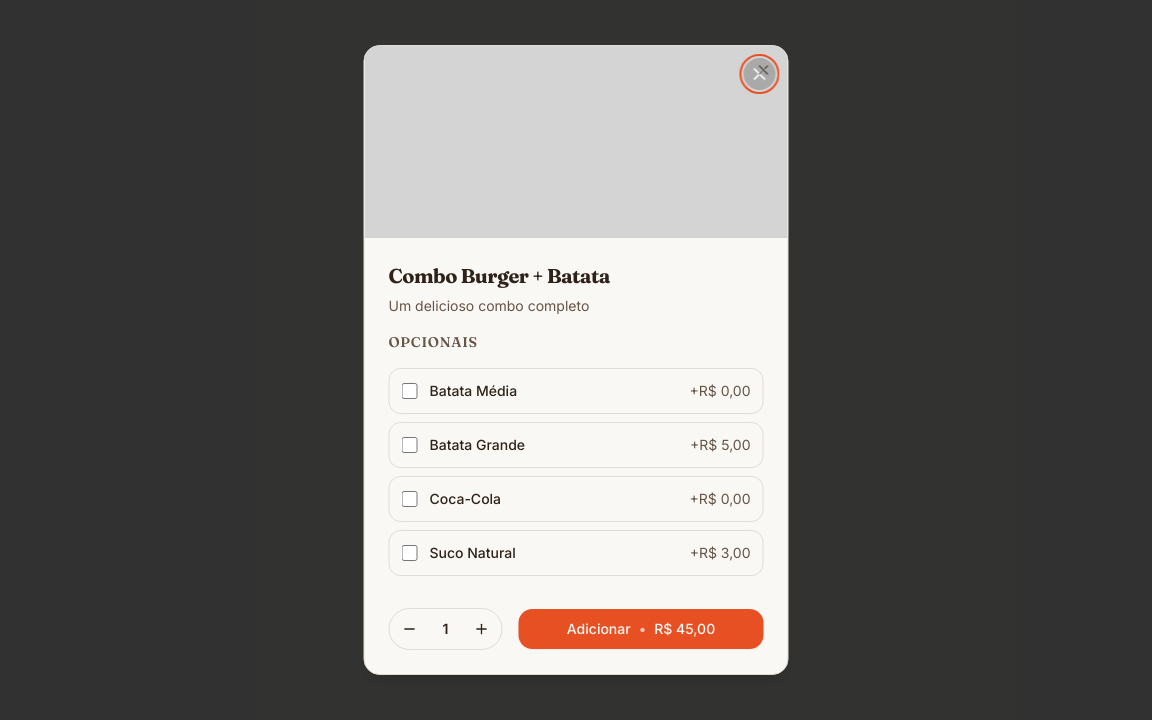
ProductOptionsSelector - Combos e Variações › calcula o preço total corretamente com múltiplos adicionais e quantidade
The width and height of the screenshot is (1152, 720).
Later steps or results of the test are not shown.
# Seleciona Batata Grande (+5) e Suco Natural (+3)
Click the checkbox labelled "Batata Grande +R$ 5,00": click(410, 445) [402,437,418,453]
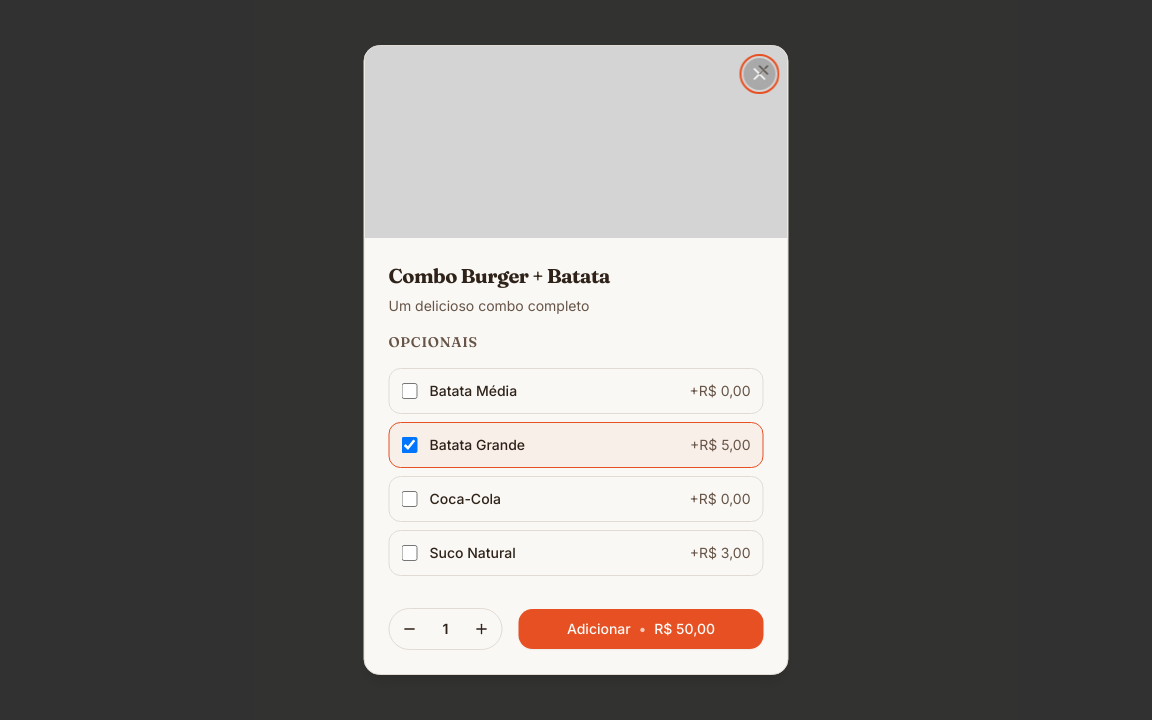
Click the checkbox labelled "Suco Natural +R$ 3,00": click(410, 553) [402,545,418,561]
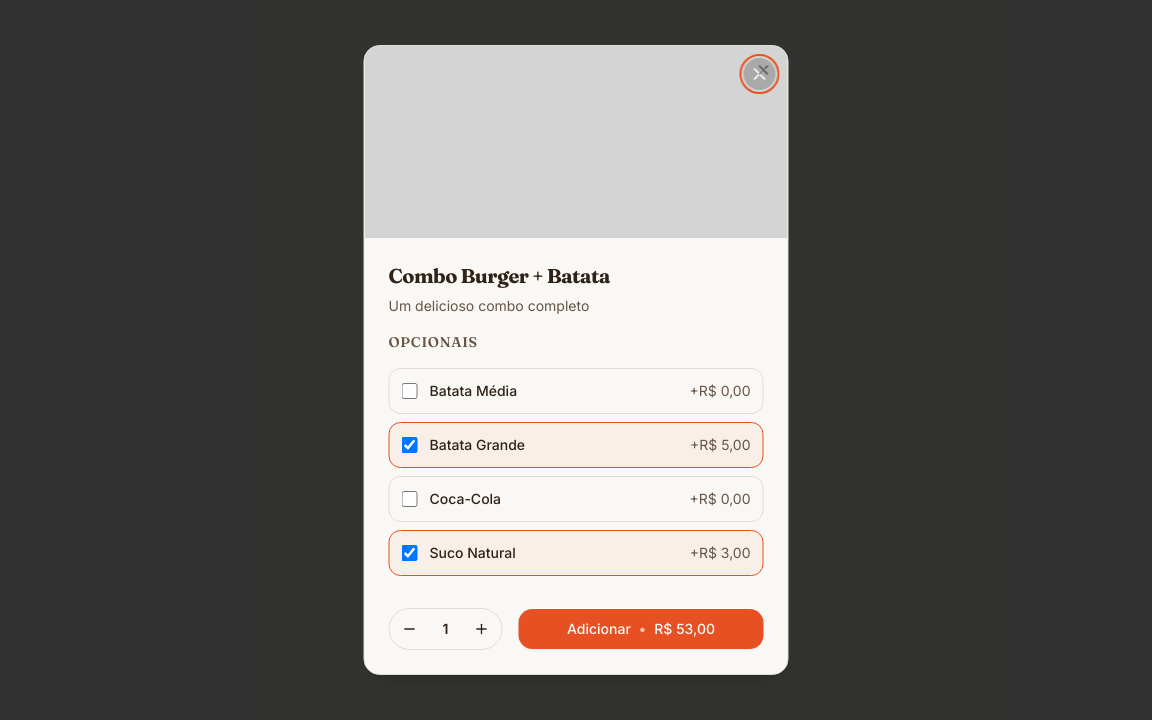
# ProductOptionsSelector structure: close button is 0, minus is 1, plus is 2, confirm is 3
Click the 3rd button: click(482, 629) [466,613,498,645]
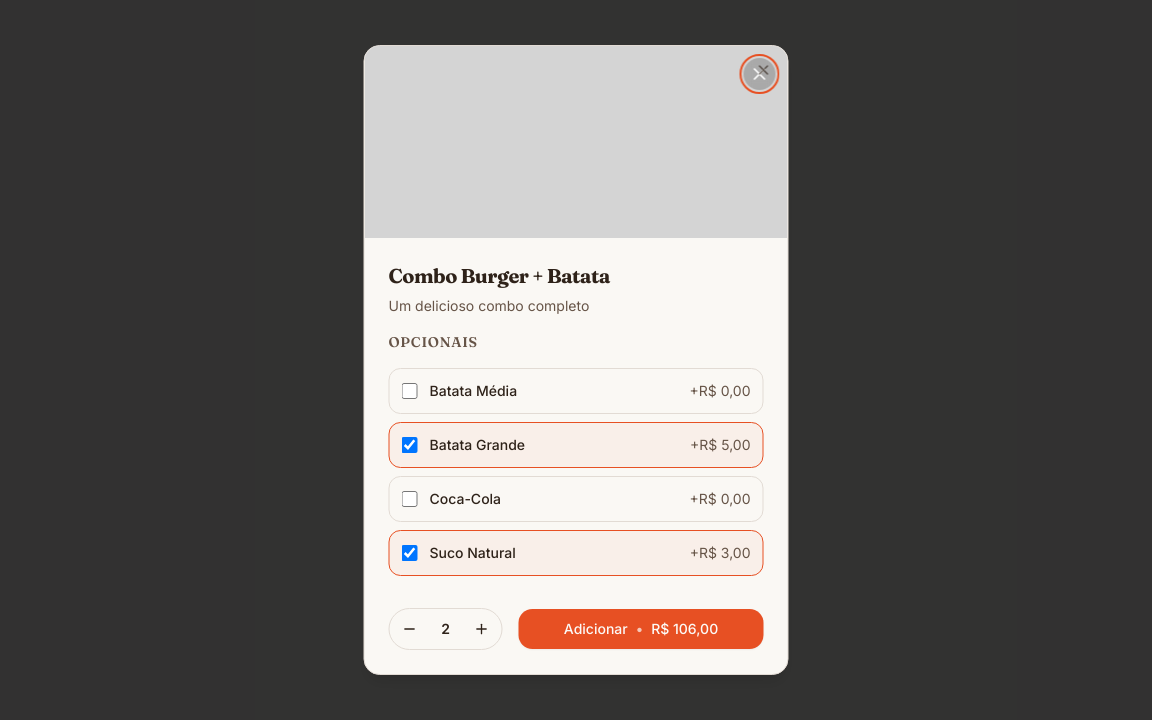
Expected: the button "Adicionar • R$ 106,00" is shown, [518,609,764,649]
